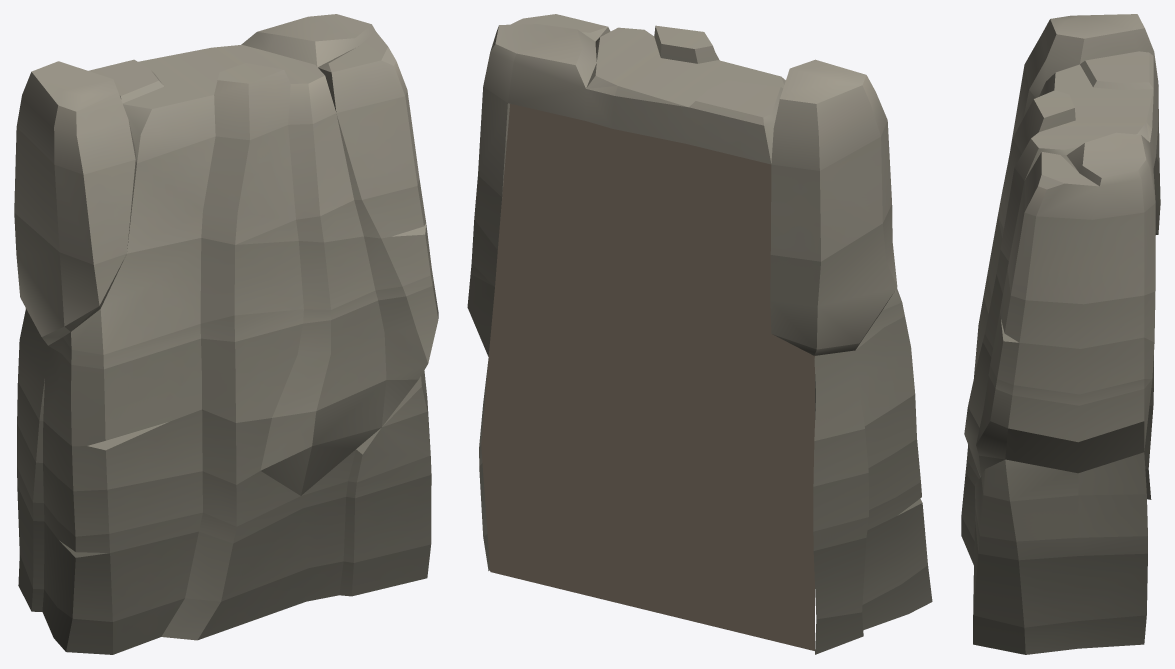
The model's file is Canyon_Wall_1B.fbx.
3 renders of one model, left to right at view 1: azimuth 30°, elevation 25°; view 2: azimuth 150°, elevation 25°; view 3: azimuth 270°, elevation 25°, orthographic. The views are drawn at different scales.
Visible parts, largest first — view 1: Canyon_Wall_1B; view 2: Canyon_Wall_1B; view 3: Canyon_Wall_1B.
Part boxes in pixels (<box>): Canyon_Wall_1B: <box>14,14,438,654</box>; Canyon_Wall_1B: <box>467,14,932,654</box>; Canyon_Wall_1B: <box>961,14,1160,654</box>.
Bounding box in the file's own units: 2434 × 3149 × 1164.
